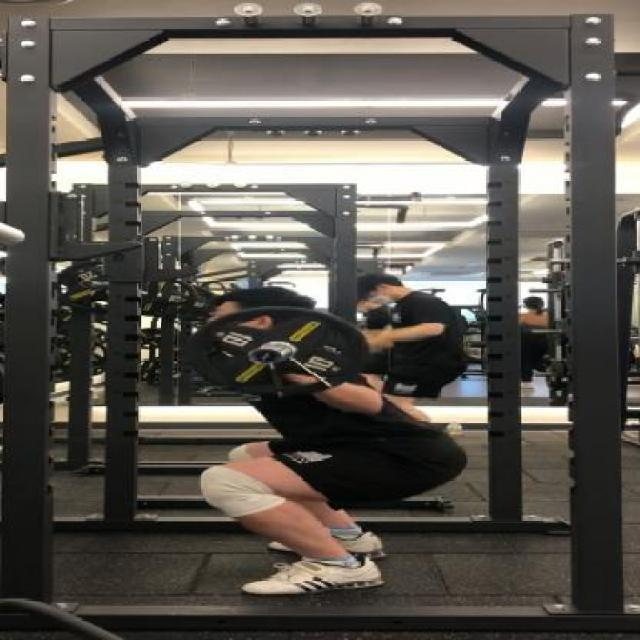Barbell: (244, 346, 286, 368)
